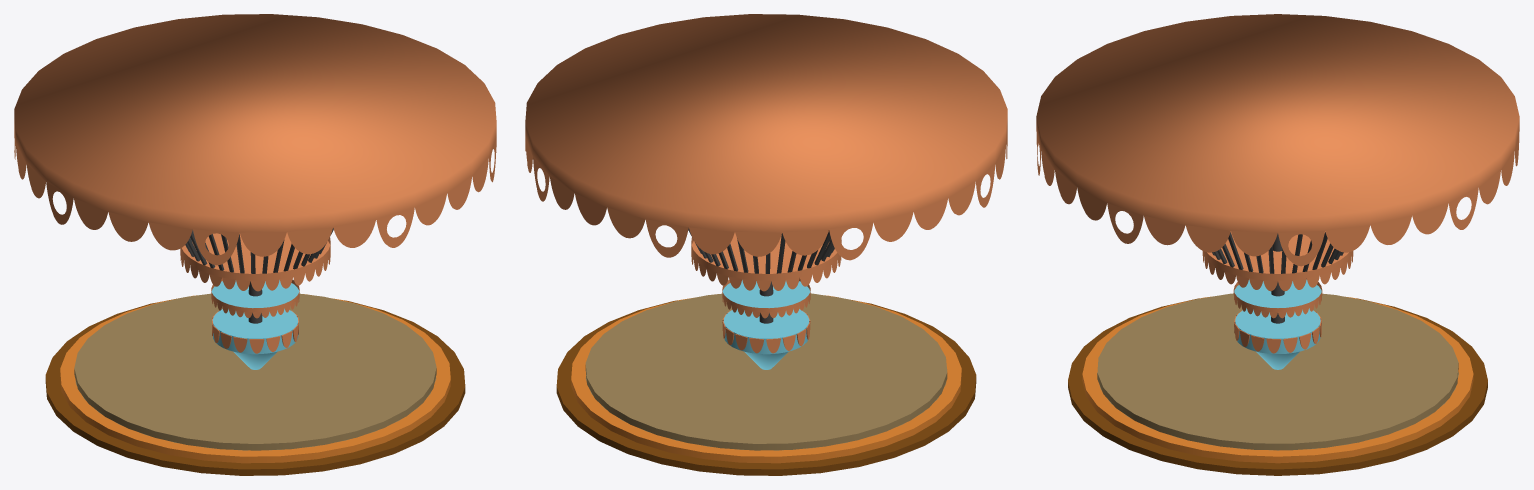
The model's file is Carousel2.fbx.
3 renders of one model, left to right at view 1: azimuth 30°, elevation 25°; view 2: azimuth 150°, elevation 25°; view 3: azimuth 270°, elevation 25°, orthographic.
Visible parts, largest first — view 1: Carousel_Top, Ground, Carousel_Mid, Detail_bottom, Carousel_Mid2, Cylinders; view 2: Carousel_Top, Ground, Carousel_Mid, Detail_bottom, Carousel_Mid2, Cylinders; view 3: Carousel_Top, Ground, Carousel_Mid, Detail_bottom, Carousel_Mid2, Cylinders.
Boxes of the visible parts, <box> form: Carousel_Top: <box>14,14,496,265</box>; Ground: <box>45,293,465,475</box>; Carousel_Mid: <box>180,232,330,291</box>; Detail_bottom: <box>212,308,298,369</box>; Carousel_Mid2: <box>211,278,299,318</box>; Cylinders: <box>185,228,333,273</box>; Carousel_Top: <box>525,14,1007,260</box>; Ground: <box>556,293,976,475</box>; Carousel_Mid: <box>691,230,841,291</box>; Detail_bottom: <box>722,308,810,369</box>; Carousel_Mid2: <box>722,278,810,318</box>; Cylinders: <box>688,228,834,273</box>; Carousel_Top: <box>1036,14,1519,266</box>; Ground: <box>1068,293,1487,475</box>; Carousel_Mid: <box>1202,231,1353,291</box>; Detail_bottom: <box>1234,308,1321,369</box>; Carousel_Mid2: <box>1233,278,1322,318</box>; Cylinders: <box>1212,232,1343,273</box>.
Size of the model in its own units: 403 by 250 by 403.
